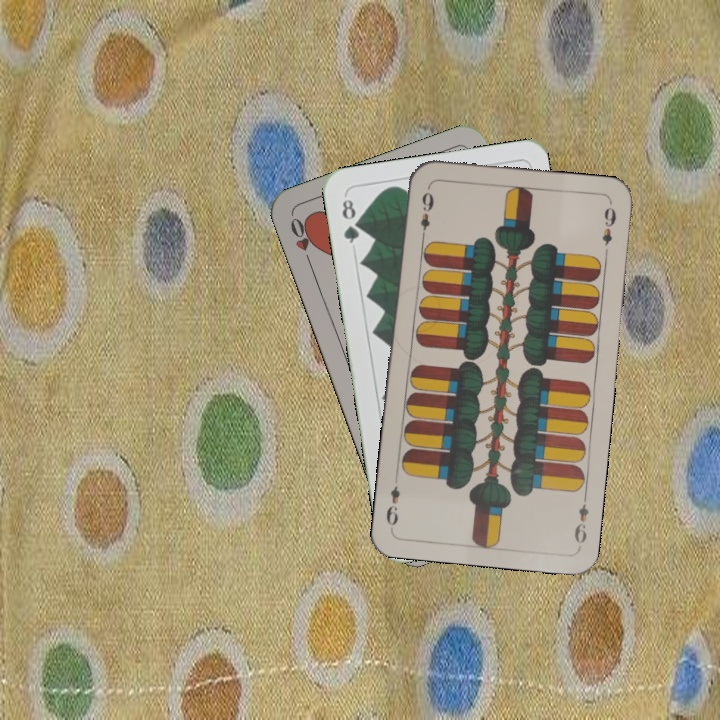E9: (570, 490, 591, 546), (417, 188, 436, 242)
G8: (338, 195, 363, 246)
HO: (286, 213, 318, 270)
